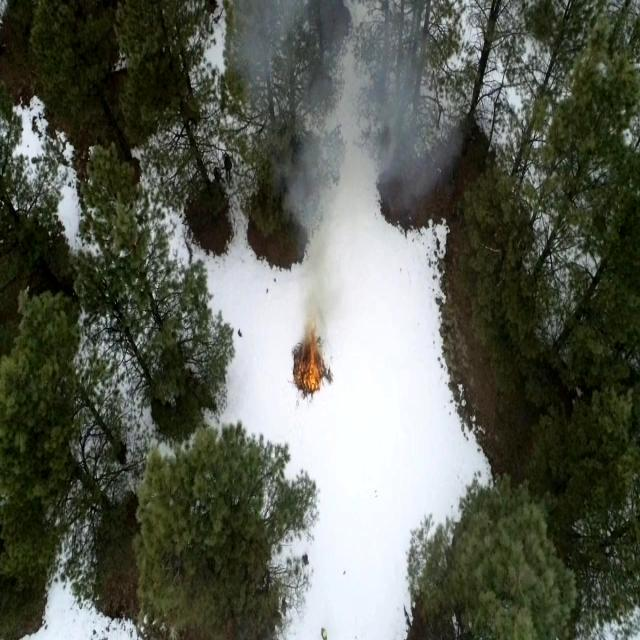Fire: (296, 336, 326, 393)
Smoke: (244, 4, 437, 338)
